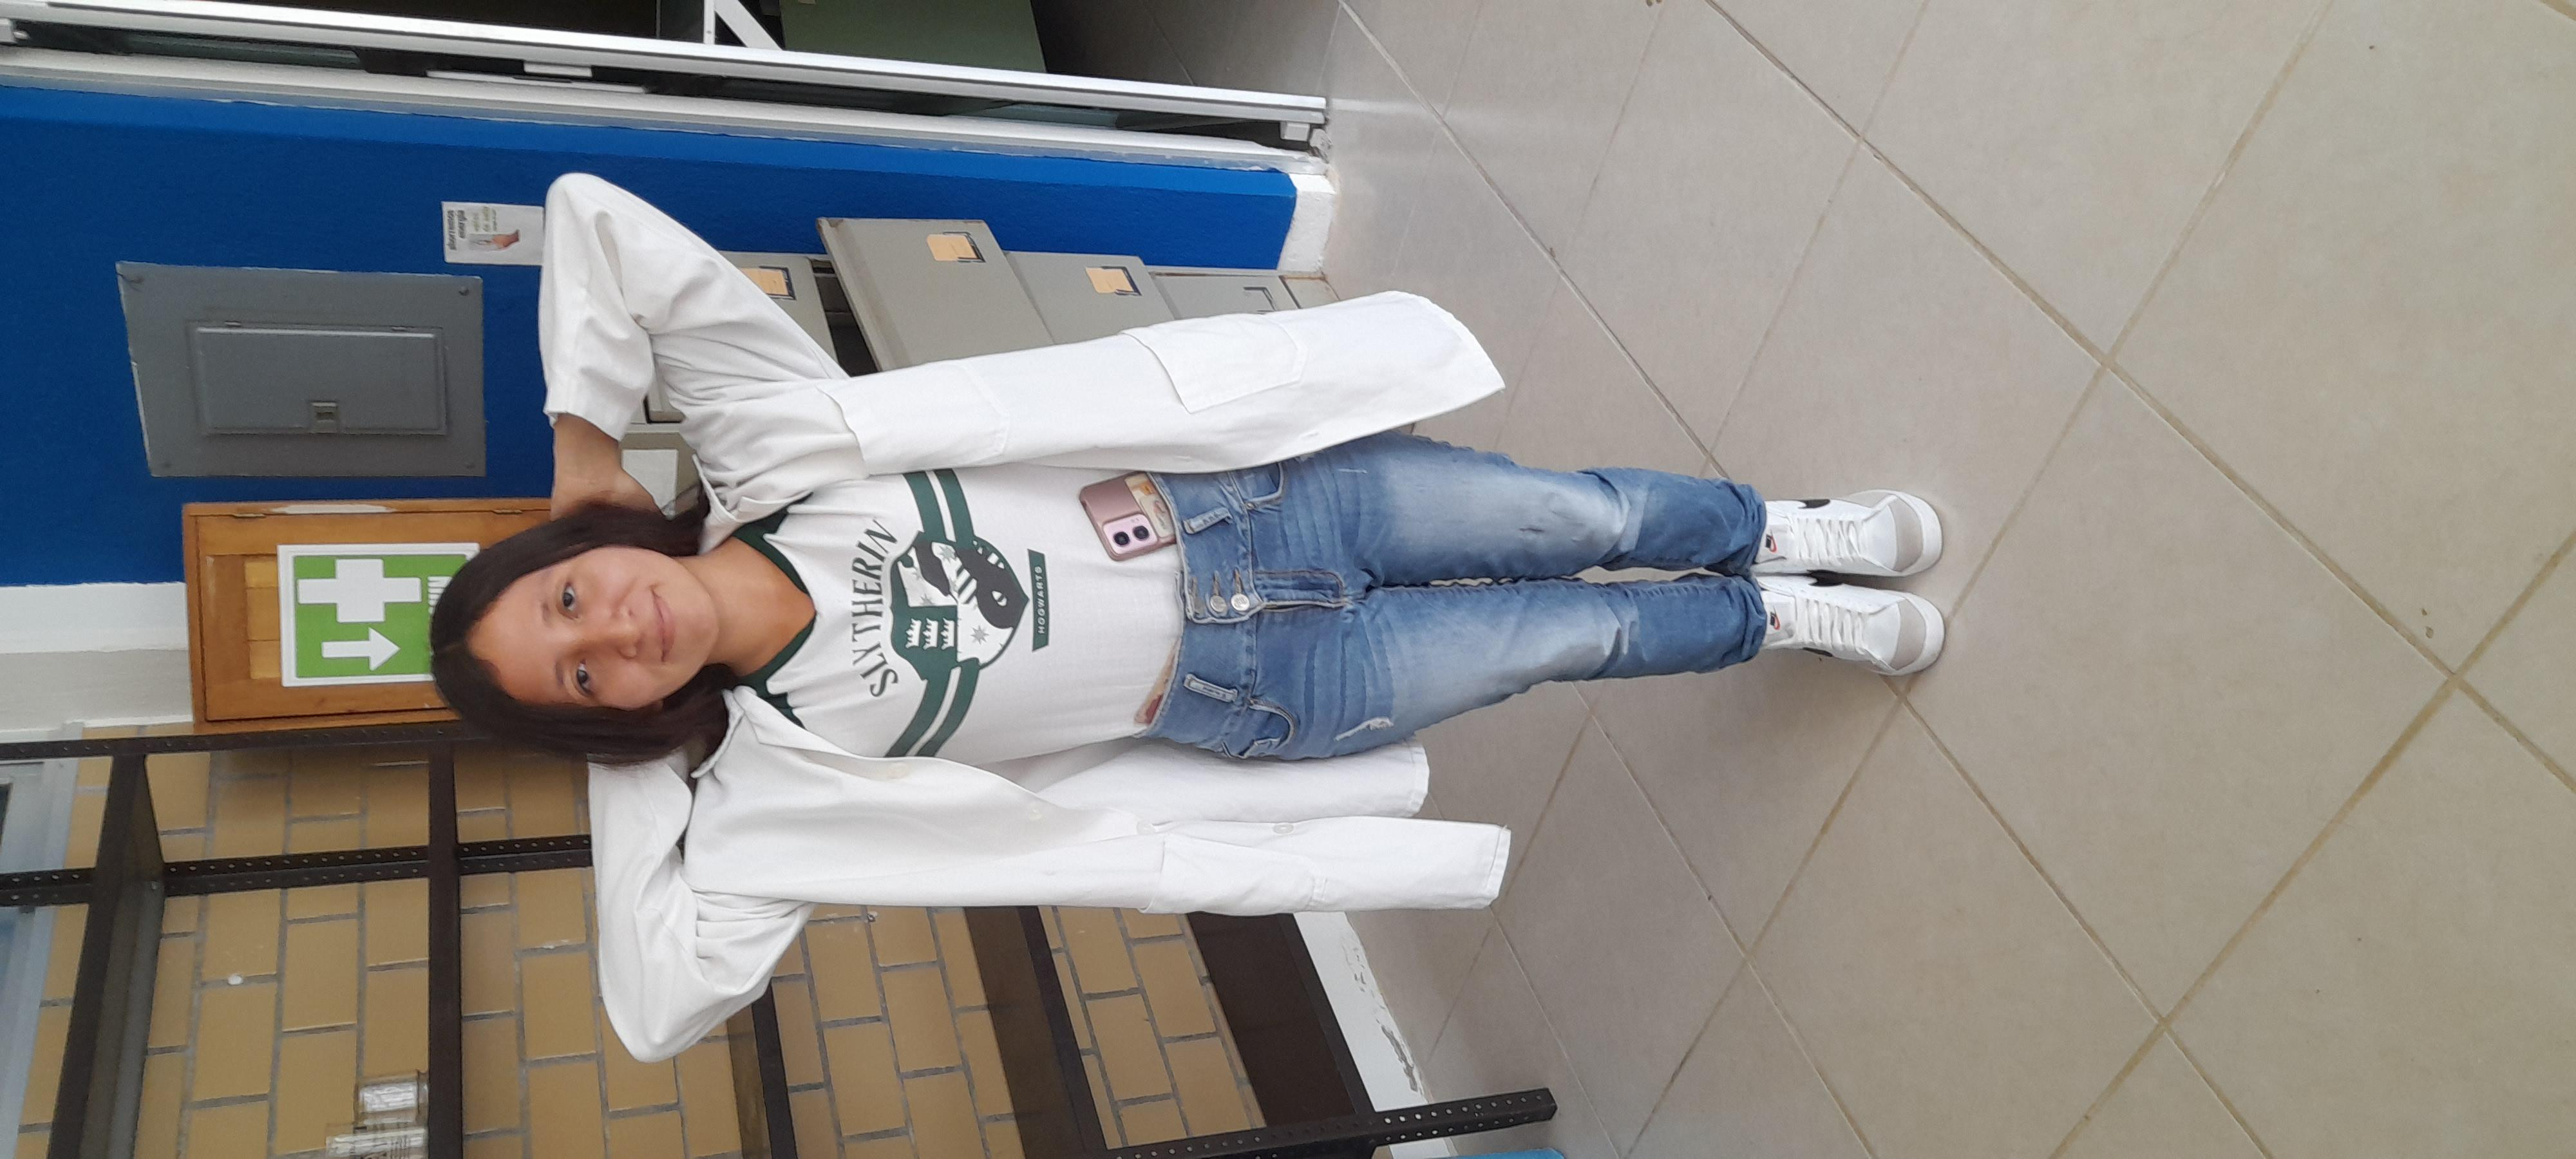Bata-Incorrecta: (220, 194, 2187, 875)
